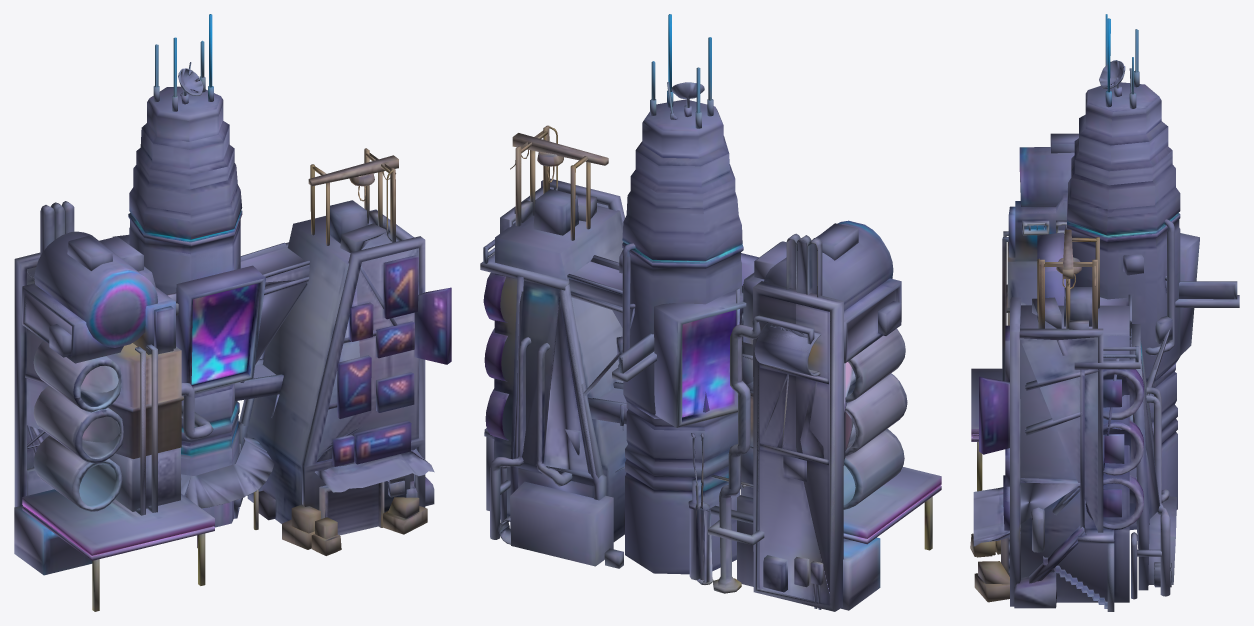
Rendered from city_b.glb.
3 renders of one model, left to right at view 1: azimuth 30°, elevation 25°; view 2: azimuth 150°, elevation 25°; view 3: azimuth 270°, elevation 25°, orthographic. The views are drawn at different scales.
Visible parts, largest first — view 1: tripo_node_280527b8-c74a-4055-844c-3c1e7555c6d8; view 2: tripo_node_280527b8-c74a-4055-844c-3c1e7555c6d8; view 3: tripo_node_280527b8-c74a-4055-844c-3c1e7555c6d8.
Boxes of the visible parts, bbox=[...] form: tripo_node_280527b8-c74a-4055-844c-3c1e7555c6d8: bbox=[14, 14, 451, 611]; tripo_node_280527b8-c74a-4055-844c-3c1e7555c6d8: bbox=[480, 14, 941, 611]; tripo_node_280527b8-c74a-4055-844c-3c1e7555c6d8: bbox=[970, 14, 1239, 611].
Size of the model in its own units: 0.7559 by 0.998 by 0.4785.
Materials: 1 (1 with a texture image).
